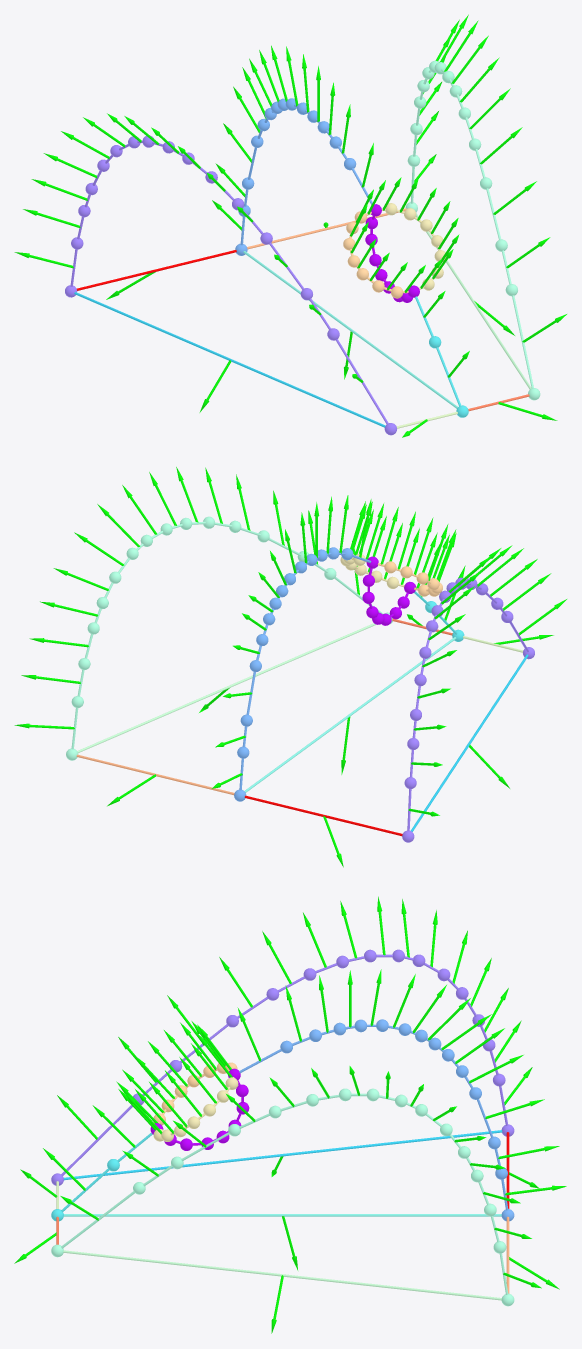
The model's file is onshape_simple_mouse.gltf.
3 views of the same model, one above another, from view 1: azimuth 30°, elevation 25°; view 2: azimuth 150°, elevation 25°; view 3: azimuth 270°, elevation 25° (orthographic). The views are drawn at different scales.
Size of the model in its own units: 0.7875 by 0.5234 by 0.8679.
